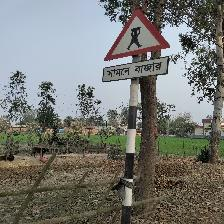Market-in-front: (102, 8, 171, 83)
